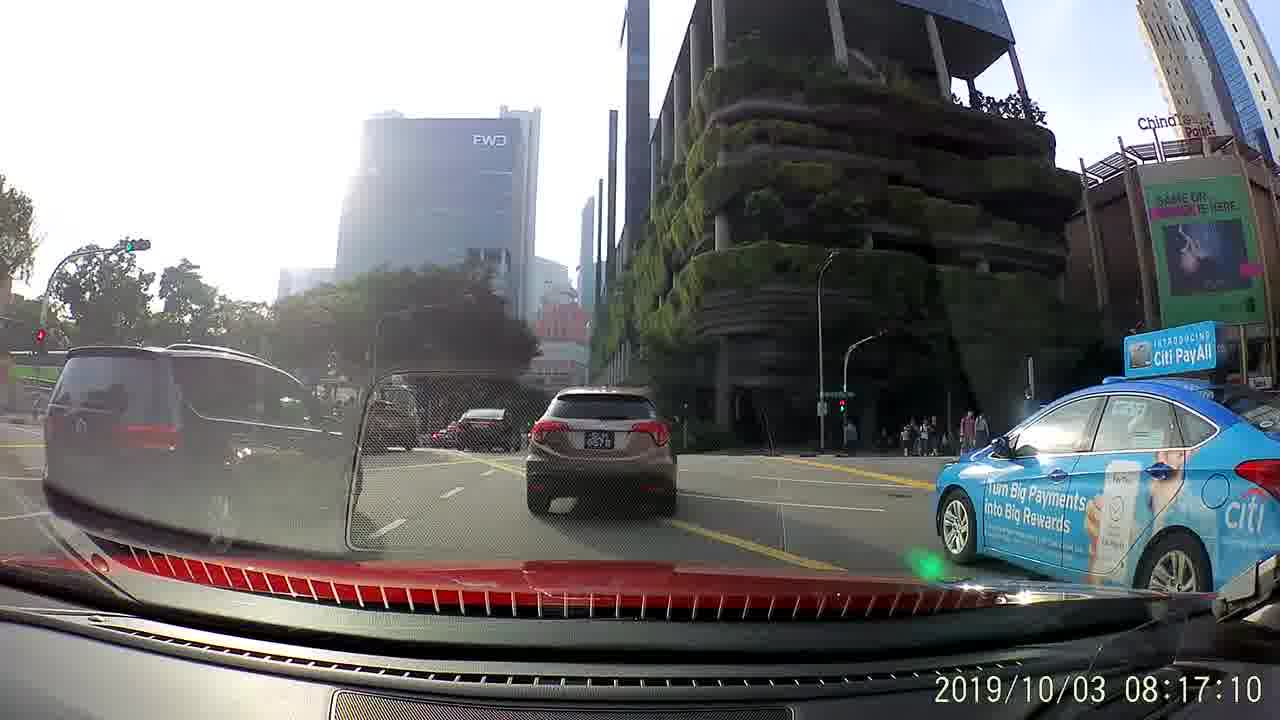car: (934, 326, 1276, 593), (42, 344, 367, 556), (527, 382, 678, 517), (459, 403, 519, 453)
